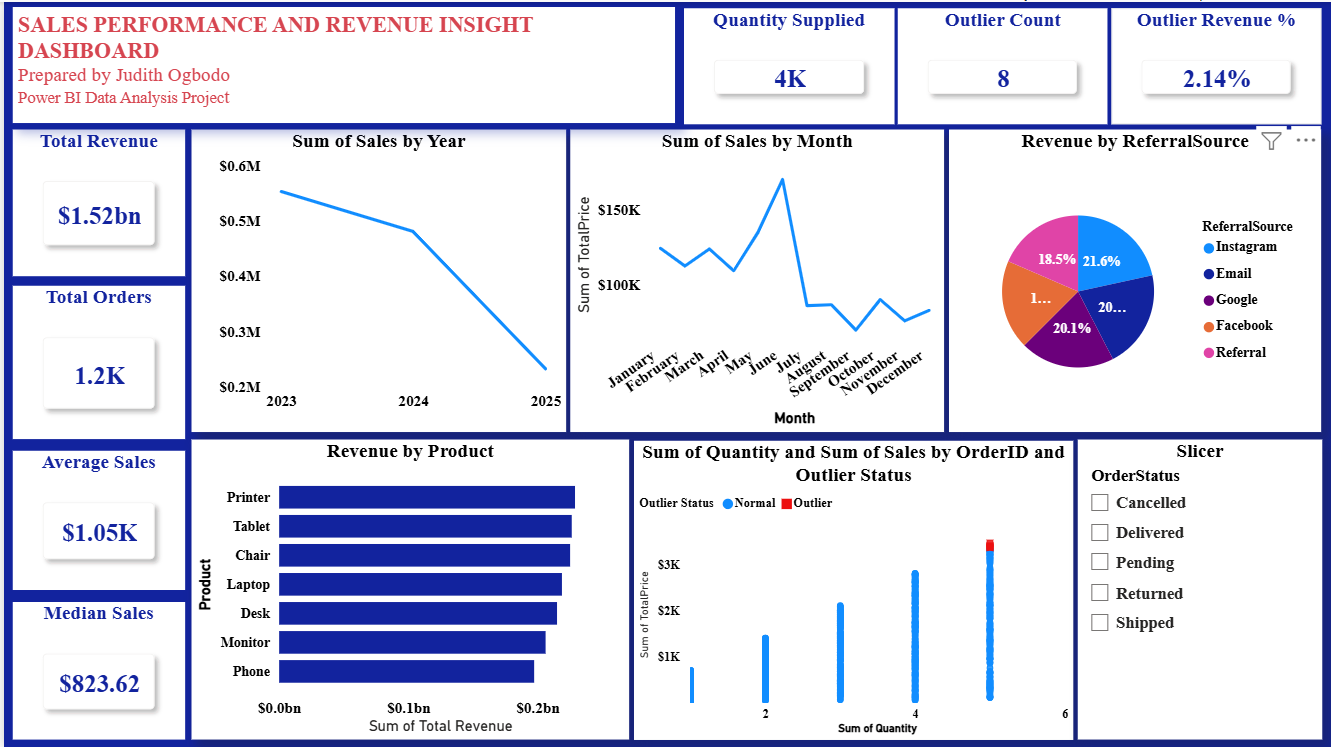

This screenshot's page, from the dashboard's own definition file:
{"tool":"powerbi","page":{"name":"Project_4_Dashboard","canvas":[1280,720],"ordinal":1},"visuals":[{"type":"shape","box":[8.4,47.1,581.5,84.5],"z":0},{"type":"cardVisual","title":"Total Orders","fields":{"Data":["CountNonNull(Cleaned_sales_Dataset.OrderID)"]},"box":[8.2,274.4,166,148.2],"z":1000},{"type":"cardVisual","title":"Median Sales","fields":{"Data":["Cleaned_sales_Dataset.Median Sales"]},"box":[8.2,579.1,166,133.1],"z":2000},{"type":"cardVisual","title":"Average Sales","fields":{"Data":["Cleaned_sales_Dataset.Average Sales"]},"box":[8.2,433.6,166,134.5],"z":3000},{"type":"lineChart","title":"Sum of Sales by Year","fields":{"Category":["Cleaned_sales_Dataset.Date.Variation.Date Hierarchy.Year"],"Y":["Sum(Cleaned_sales_Dataset.TotalPrice)"]},"box":[181,123,361.9,292],"z":4000},{"type":"lineChart","title":"Sum of Sales by Month","fields":{"Category":["Cleaned_sales_Dataset.Date.Variation.Date Hierarchy.Month"],"Y":["Sum(Cleaned_sales_Dataset.TotalPrice)"]},"box":[547,123,361,292],"z":5000},{"type":"barChart","title":"Revenue by Product","fields":{"Category":["Cleaned_sales_Dataset.Product"],"Y":["Sum(Cleaned_sales_Dataset.Total Revenue)"]},"box":[181,422.6,422.6,289.5],"z":6000},{"type":"pieChart","title":"Revenue by ReferralSource","fields":{"Category":["Cleaned_sales_Dataset.ReferralSource"],"Y":["Sum(Cleaned_sales_Dataset.Total Revenue)"]},"box":[912.5,123.5,359.5,292.3],"z":7000},{"type":"cardVisual","title":"Total Revenue","fields":{"Data":["Sum(Cleaned_sales_Dataset.Total Revenue)"]},"box":[8.2,123.5,166,141.3],"z":8000},{"type":"textbox","box":[8.4,5,639.4,112],"z":9000},{"type":"scatterChart","title":"Sum of Quantity and Sum of Sales by OrderID and Outlier Status","fields":{"X":["Sum(Cleaned_sales_Dataset.Quantity)"],"Y":["Sum(Cleaned_sales_Dataset.TotalPrice)"],"Series":["Cleaned_sales_Dataset.Outlier Status"],"Category":["Cleaned_sales_Dataset.OrderID"],"Size":["Sum(Cleaned_sales_Dataset.Total Revenue)"]},"box":[608,423,424,289],"z":10000},{"type":"cardVisual","title":"Outlier Count","fields":{"Data":["Cleaned_sales_Dataset.Outlier Count"]},"box":[863,6,202.7,112],"z":11000},{"type":"cardVisual","title":"Outlier Revenue %","fields":{"Data":["Cleaned_sales_Dataset.Outlier Revenue %"]},"box":[1068.9,6,202.7,112],"z":12000},{"type":"slicer","title":"Slicer","fields":{"Values":["Cleaned_sales_Dataset.OrderStatus"]},"box":[1036,422.6,236,289.5],"z":13000},{"type":"cardVisual","title":"Quantity Supplied","fields":{"Data":["Cleaned_sales_Dataset.Total Quantity supplied"]},"box":[656,6,203,112],"z":14000}]}

Visuals, with their boxes in screenshot pixels (x1, y1, x2, y2), scaled from the page's 1280x720 canvas onto the 1331x747 screenshot:
shape: bbox=(9, 49, 613, 137)
"Total Orders" cardVisual: bbox=(9, 285, 181, 438)
"Median Sales" cardVisual: bbox=(9, 601, 181, 739)
"Average Sales" cardVisual: bbox=(9, 450, 181, 589)
"Sum of Sales by Year" lineChart: bbox=(188, 128, 565, 431)
"Sum of Sales by Month" lineChart: bbox=(569, 128, 944, 431)
"Revenue by Product" barChart: bbox=(188, 438, 628, 739)
"Revenue by ReferralSource" pieChart: bbox=(949, 128, 1323, 431)
"Total Revenue" cardVisual: bbox=(9, 128, 181, 275)
textbox: bbox=(9, 5, 674, 121)
"Sum of Quantity and Sum of Sales by OrderID and Outlier Status" scatterChart: bbox=(632, 439, 1073, 739)
"Outlier Count" cardVisual: bbox=(897, 6, 1108, 122)
"Outlier Revenue %" cardVisual: bbox=(1111, 6, 1322, 122)
"Slicer" slicer: bbox=(1077, 438, 1323, 739)
"Quantity Supplied" cardVisual: bbox=(682, 6, 893, 122)
